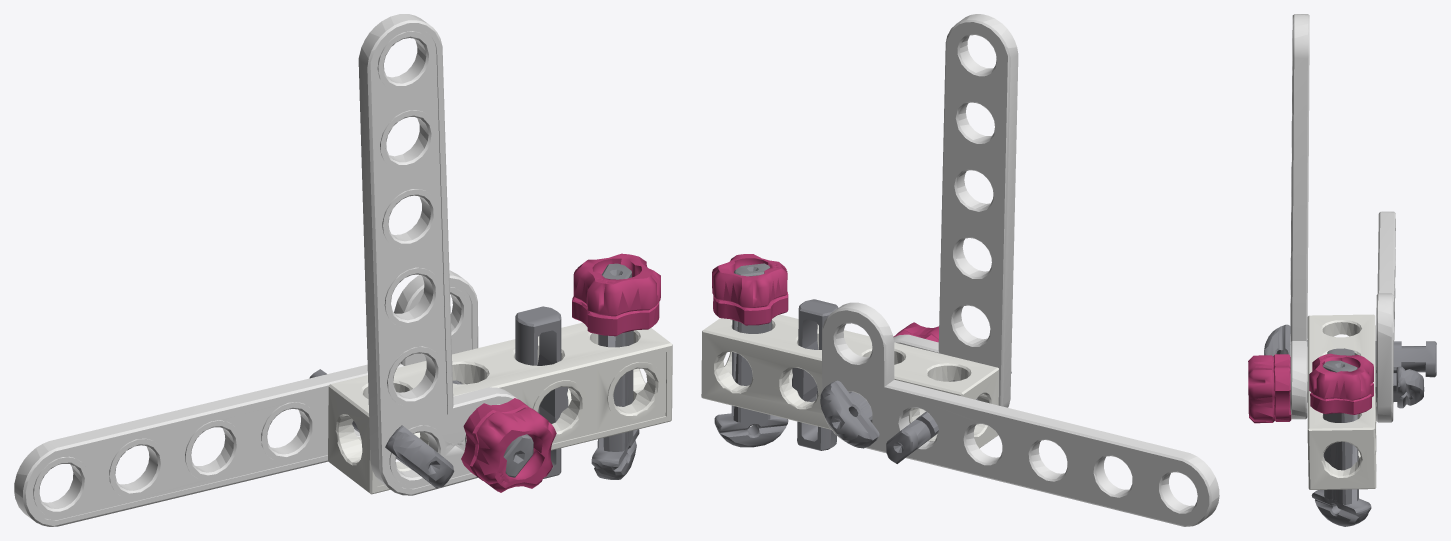
File: UMilestone2.fbx
3 views of the same model, side by side, from view 1: azimuth 30°, elevation 25°; view 2: azimuth 150°, elevation 25°; view 3: azimuth 270°, elevation 25° (orthographic). The views are drawn at different scales.
Parts seen in each view (by area): view 1: Brace AGD 90 ASYM ERR BU02x06x01x00.25 - SPN-BRC-1003 (stemf; view 2: Brace AGD 90 ASYM ERR BU02x06x01x00.25 - SPN-BRC-1003 (stemf; view 3: Brace AGD 90 ASYM ERR BU02x06x01x00.25 - SPN-BRC-1003 (stemf.
Part boxes in pixels (x1,y1,x2,y2): Brace AGD 90 ASYM ERR BU02x06x01x00.25 - SPN-BRC-1003 (stemf: (14,14,672,526); Brace AGD 90 ASYM ERR BU02x06x01x00.25 - SPN-BRC-1003 (stemf: (701,14,1219,526); Brace AGD 90 ASYM ERR BU02x06x01x00.25 - SPN-BRC-1003 (stemf: (1248,14,1436,526).
Bounding box in the file's own units: 10006 × 8426 × 3481.
